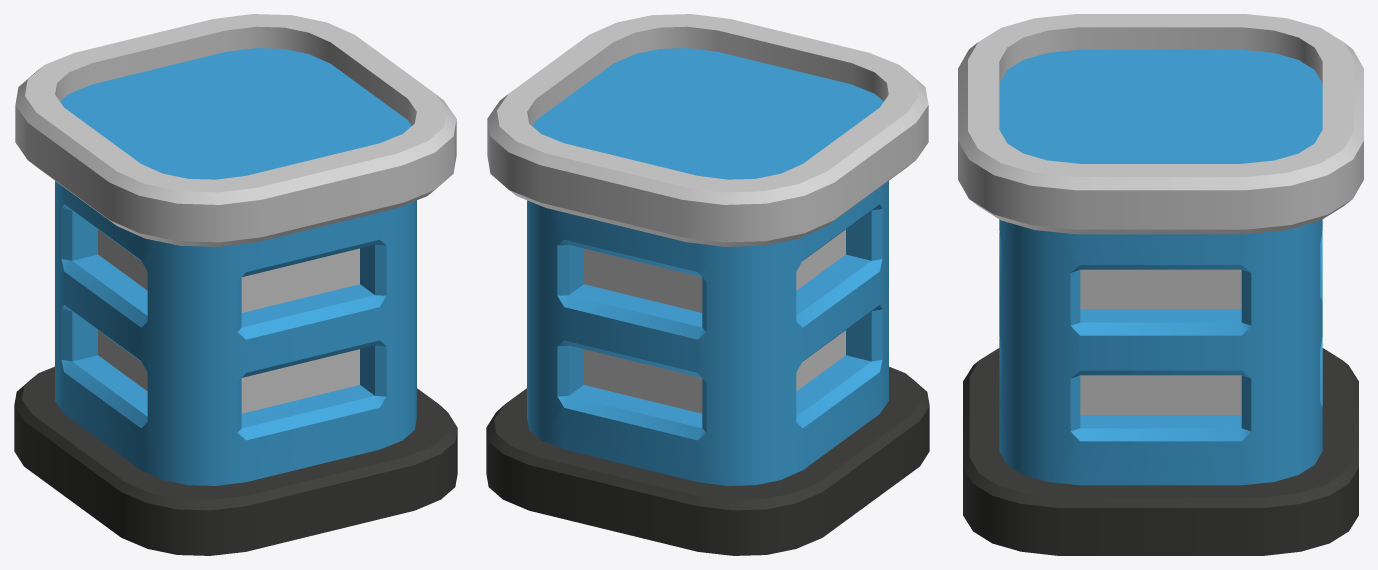
File: Tower_New.fbx
3 views of the same model, side by side, from view 1: azimuth 30°, elevation 25°; view 2: azimuth 150°, elevation 25°; view 3: azimuth 270°, elevation 25° (orthographic). The views are drawn at different scales.
Parts seen in each view (by area): view 1: Tower_New; view 2: Tower_New; view 3: Tower_New.
Boxes of the visible parts, bbox=[...] form: Tower_New: bbox=[14, 14, 457, 555]; Tower_New: bbox=[486, 14, 929, 555]; Tower_New: bbox=[958, 14, 1363, 555].
Bounding box in the file's own units: 2.46 × 2.52 × 2.46.
1 material, 1 textured.
